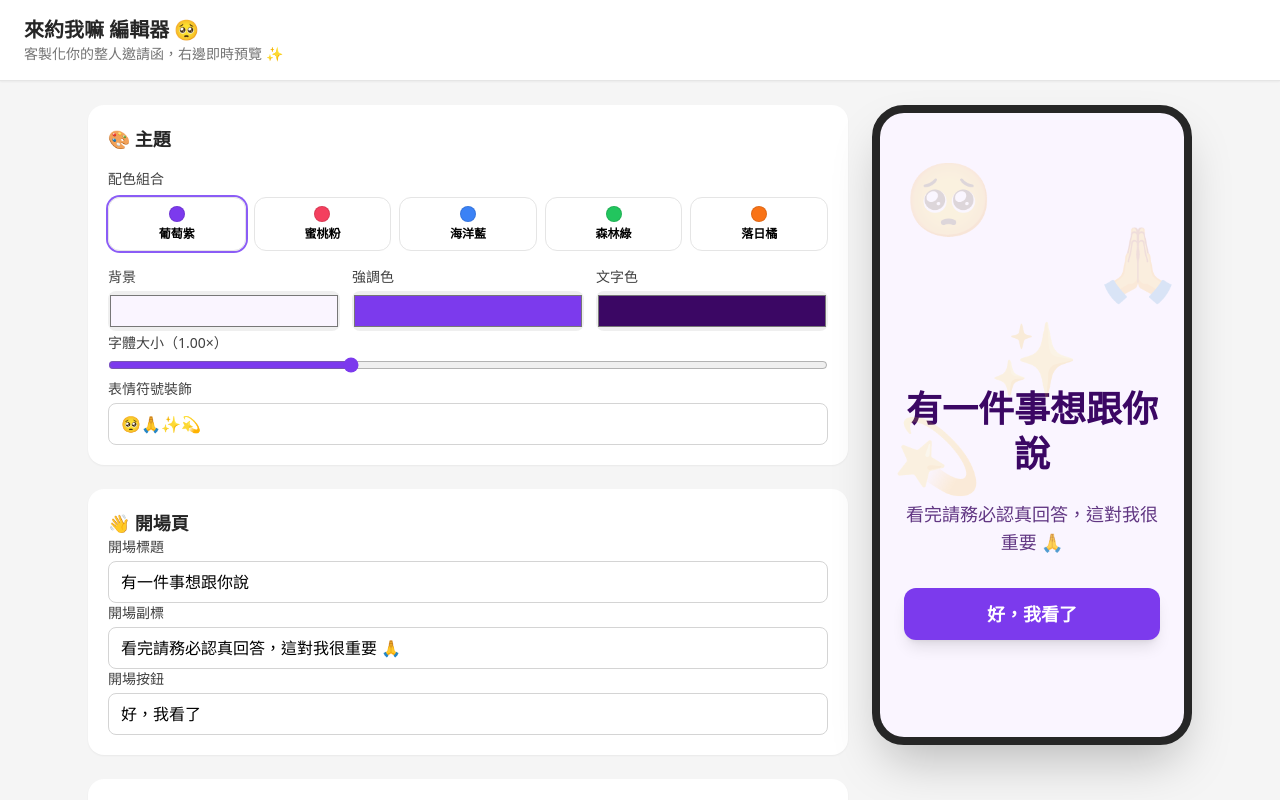
EditorPage — layout › clicking a preset swaps the accent color input and preview CSS var
Click the button "蜜桃粉".
click(322, 224)  # box x1=254 y1=197 x2=391 y2=251
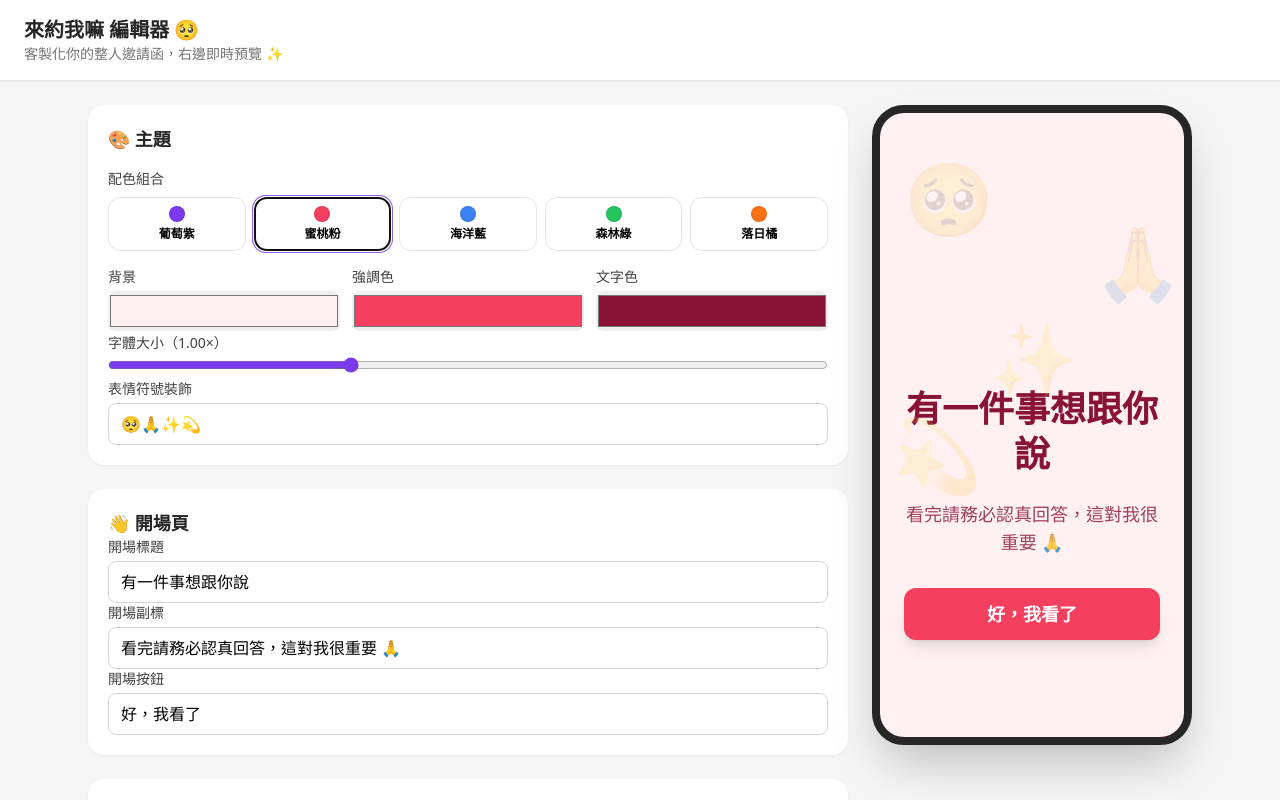
Expected: the colour field labelled "強調色" holds "#f43f5e", x1=352 y1=291 x2=584 y2=331
